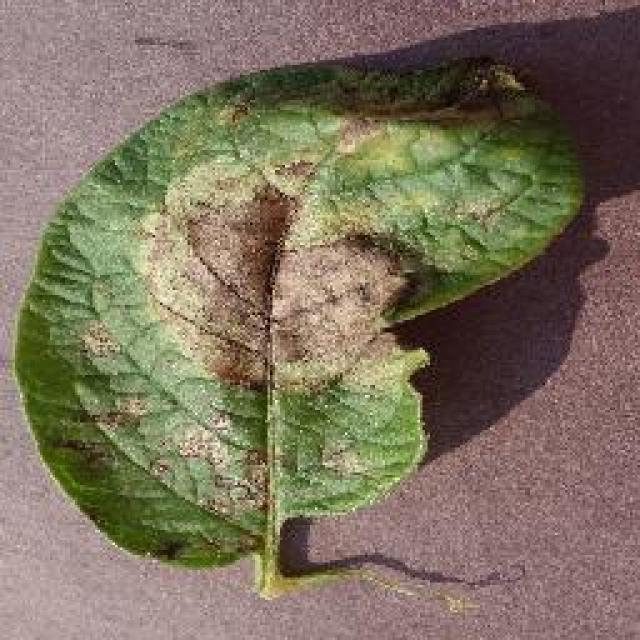late_blight: (10, 47, 590, 585)
